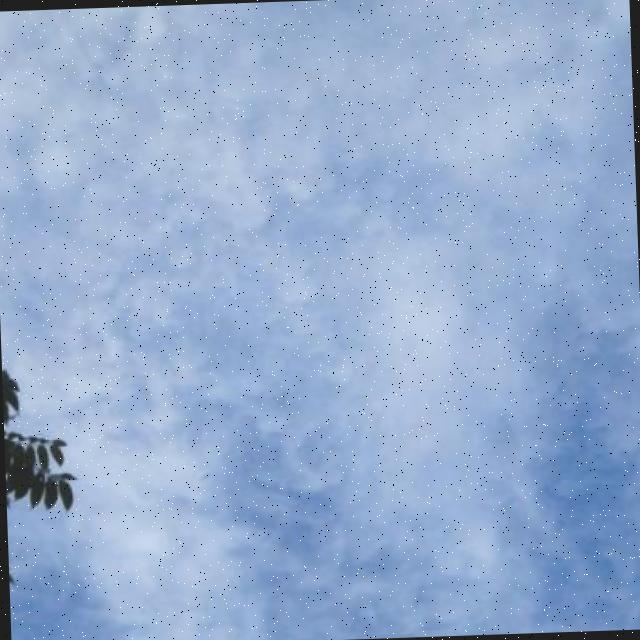Cc: (1, 7, 640, 320)
